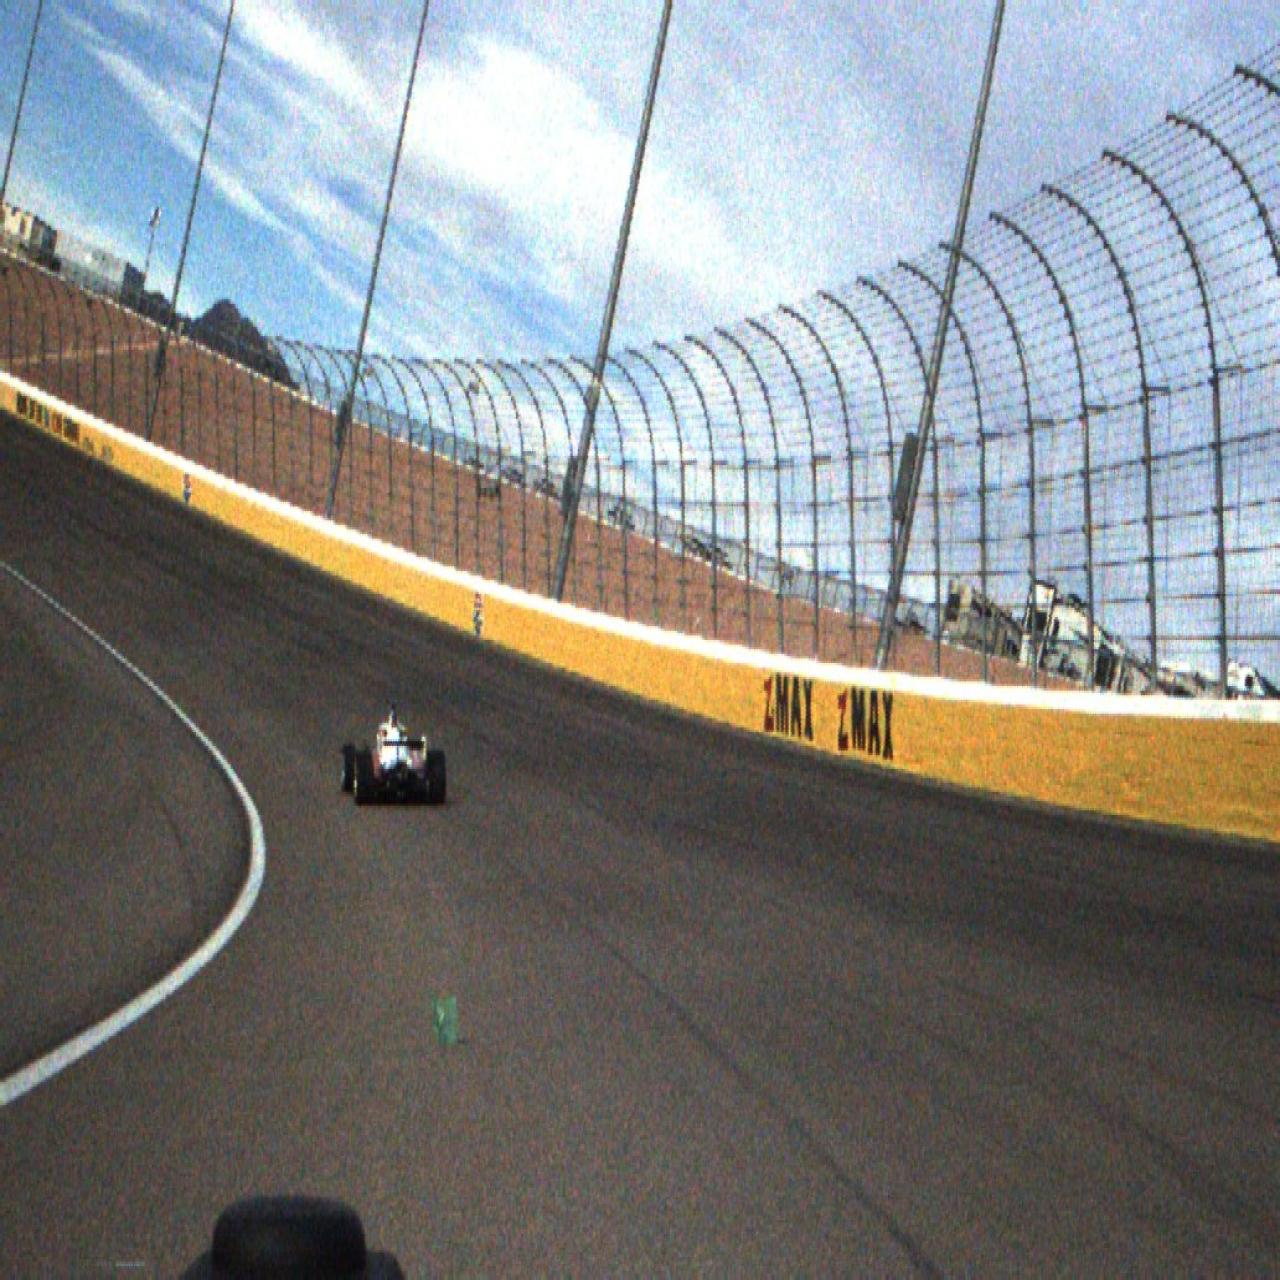AV: (340, 699, 447, 808)
Wheel: (354, 751, 375, 806), (427, 750, 447, 806), (342, 744, 355, 794)
